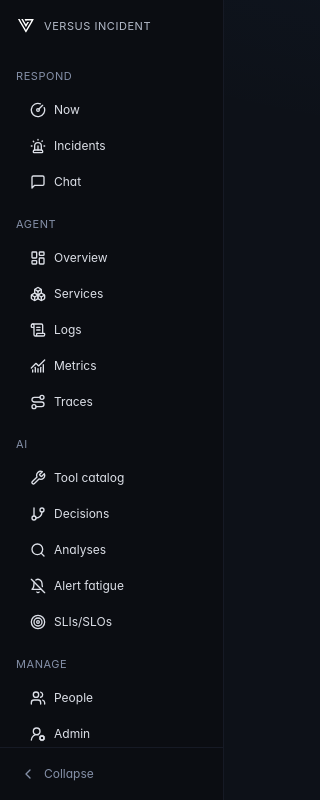
Test: Sidebar desktop rail — collapse / expand toggle › collapses to a group-icon rail, updates aria-expanded, and persists
The image size is (320, 800).
Expected: the link "Now" is shown, [30, 102, 80, 118]
Click the button with aria-label "Collapse sidebar" at (112, 774), box [8, 756, 215, 792]
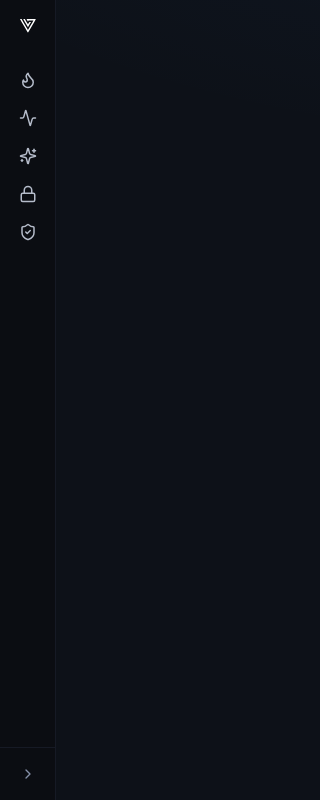
Expected: the link "Now" is gone
Expected: the button named "Expand sidebar" is collapsed, [8, 756, 47, 792]
